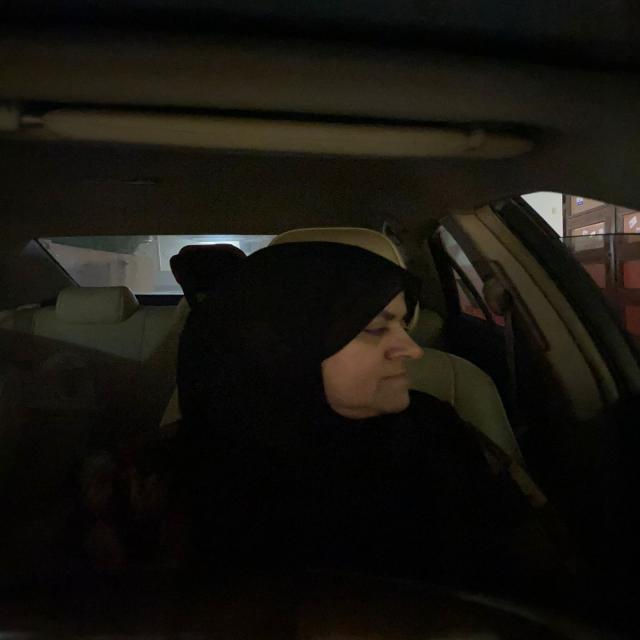LeftRight: (225, 246, 438, 448)
